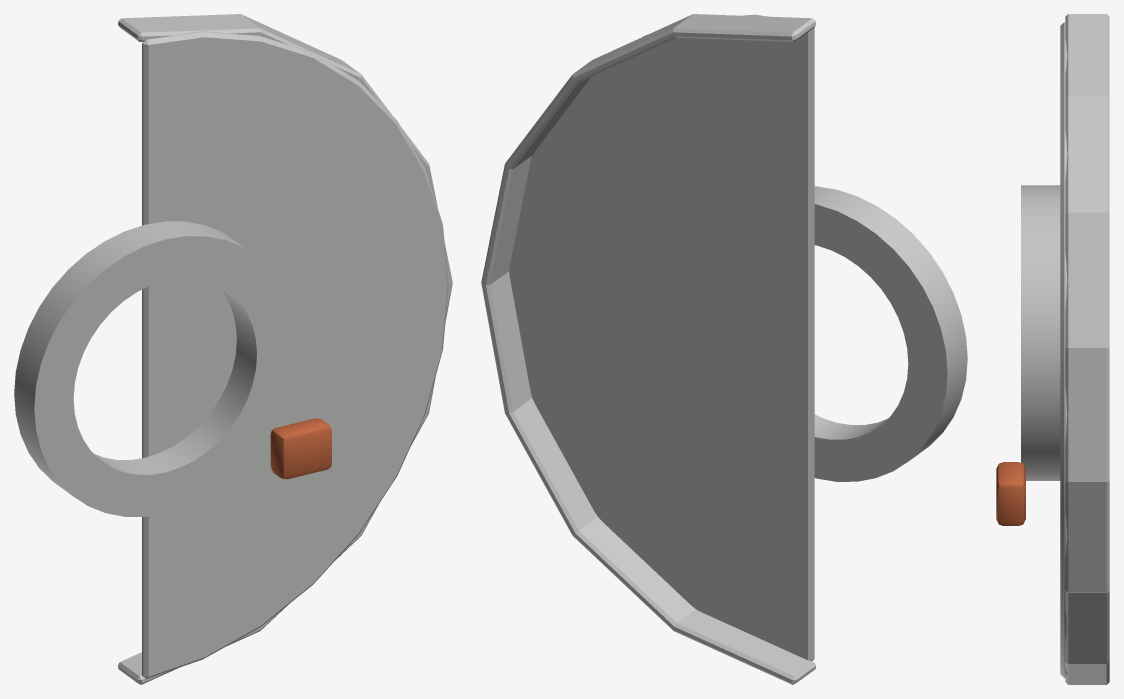
The model's file is angle_grinder_guard.glb.
3 renders of one model, left to right at view 1: azimuth 30°, elevation 25°; view 2: azimuth 150°, elevation 25°; view 3: azimuth 270°, elevation 25°, orthographic. The views are drawn at different scales.
Parts seen in each view (by area): view 1: angle_grinder_guard; view 2: angle_grinder_guard; view 3: angle_grinder_guard.
Part boxes in pixels (<box>): angle_grinder_guard: <box>14,14,452,684</box>; angle_grinder_guard: <box>481,14,967,684</box>; angle_grinder_guard: <box>996,14,1109,684</box>.
Size of the model in its own units: 0.1014 by 0.1427 by 0.023.
